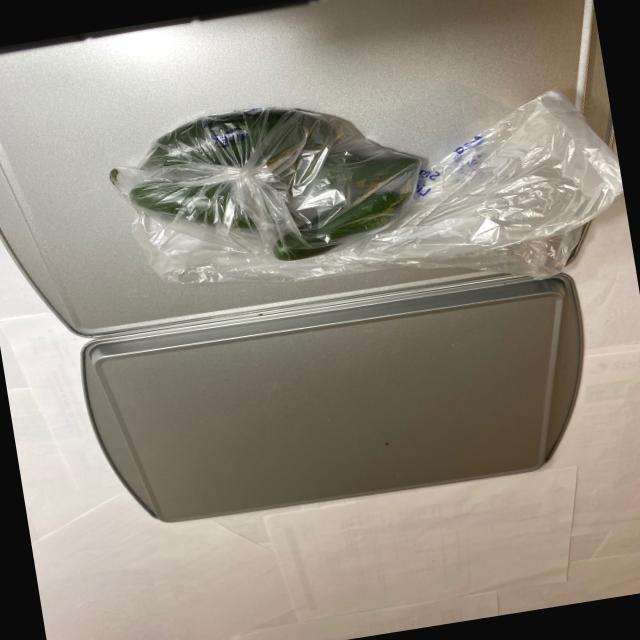chilli: (92, 86, 450, 296)
